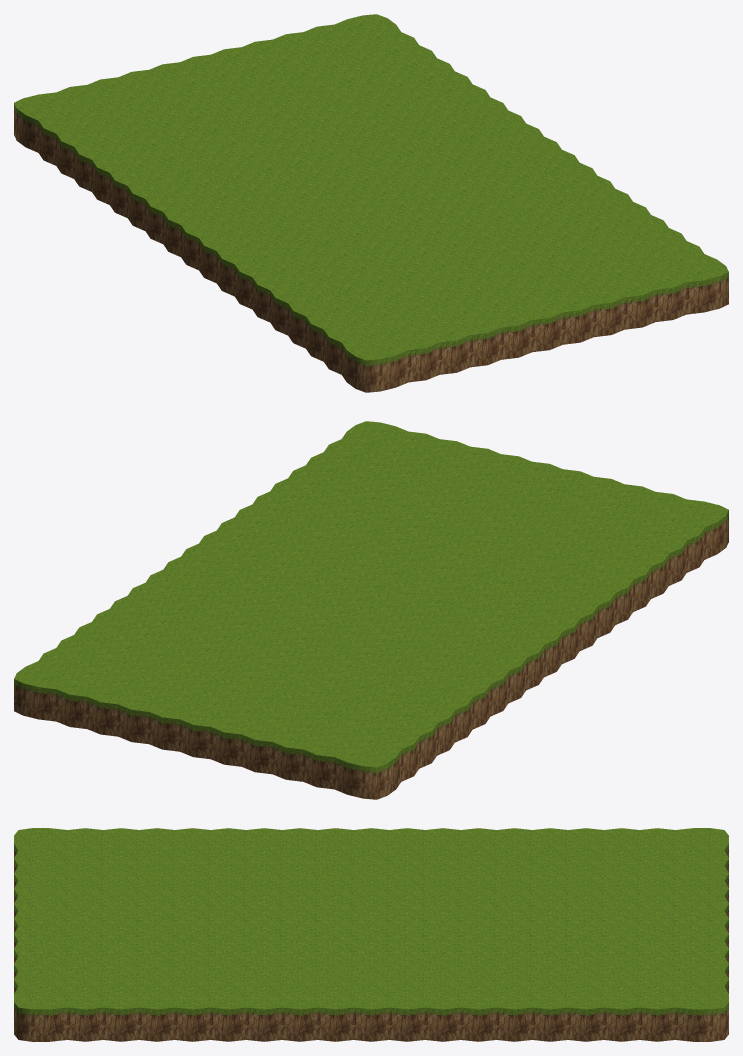
Rendered from SoratobuHusenWari.fbx.
The picture shows the model from 3 angles, top to bottom: view 1: azimuth 30°, elevation 25°; view 2: azimuth 150°, elevation 25°; view 3: azimuth 270°, elevation 25°; orthographic projection.
Parts seen in each view (by area): view 1: Terrain; view 2: Terrain; view 3: Terrain.
Part boxes in pixels (x1,y1,x2,y2): Terrain: (14, 14, 728, 392); Terrain: (14, 421, 728, 799); Terrain: (14, 828, 728, 1041).
Size of the model in its own units: 12 by 1 by 20.
1 material, 1 textured.
